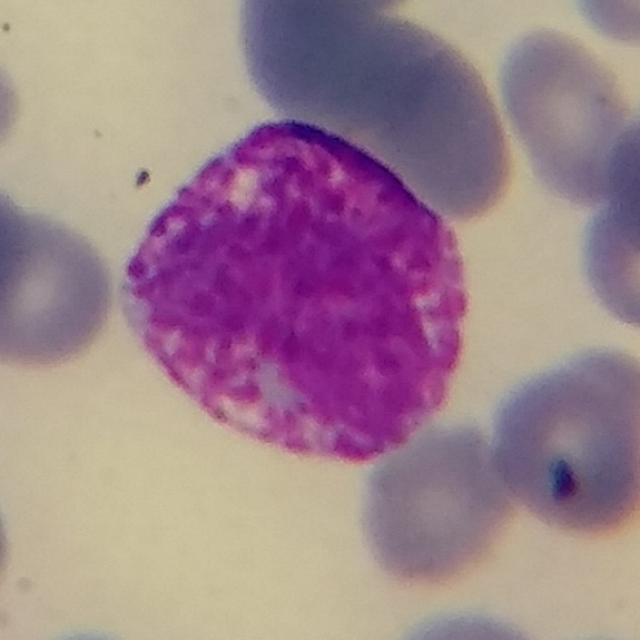baso: (111, 102, 474, 467)
